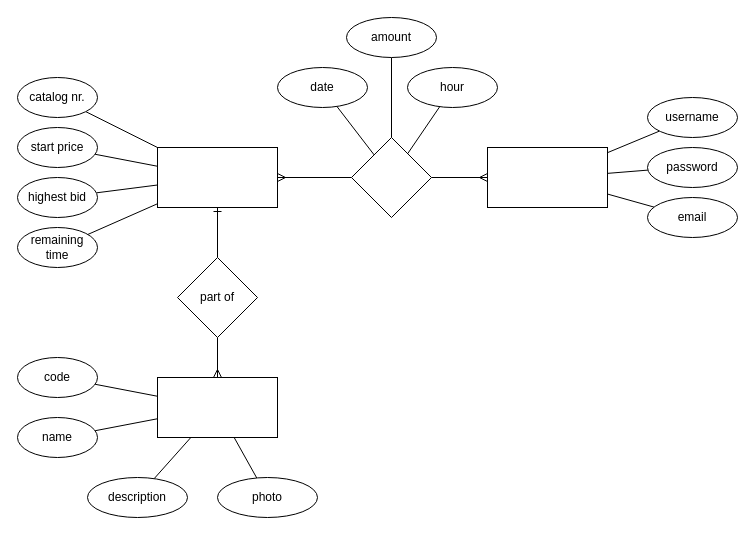
Some shapes in this 755 by 535 pixel diagram are drawn without their labels. Here are the shapes that lost their labels. From the top down, the box of each, then its label:
(156, 146, 278, 208): Set
(350, 136, 432, 218): bid
(486, 146, 608, 208): Customer
(156, 376, 278, 438): Product
